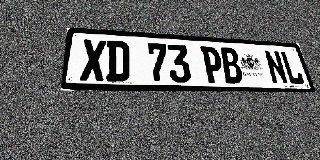3: (167, 44, 192, 83)
7: (146, 43, 170, 82)
B: (219, 47, 244, 84)
D: (106, 41, 130, 82)
L: (279, 51, 305, 85)
N: (263, 50, 289, 84)
P: (200, 46, 225, 83)
X: (80, 39, 106, 81)
